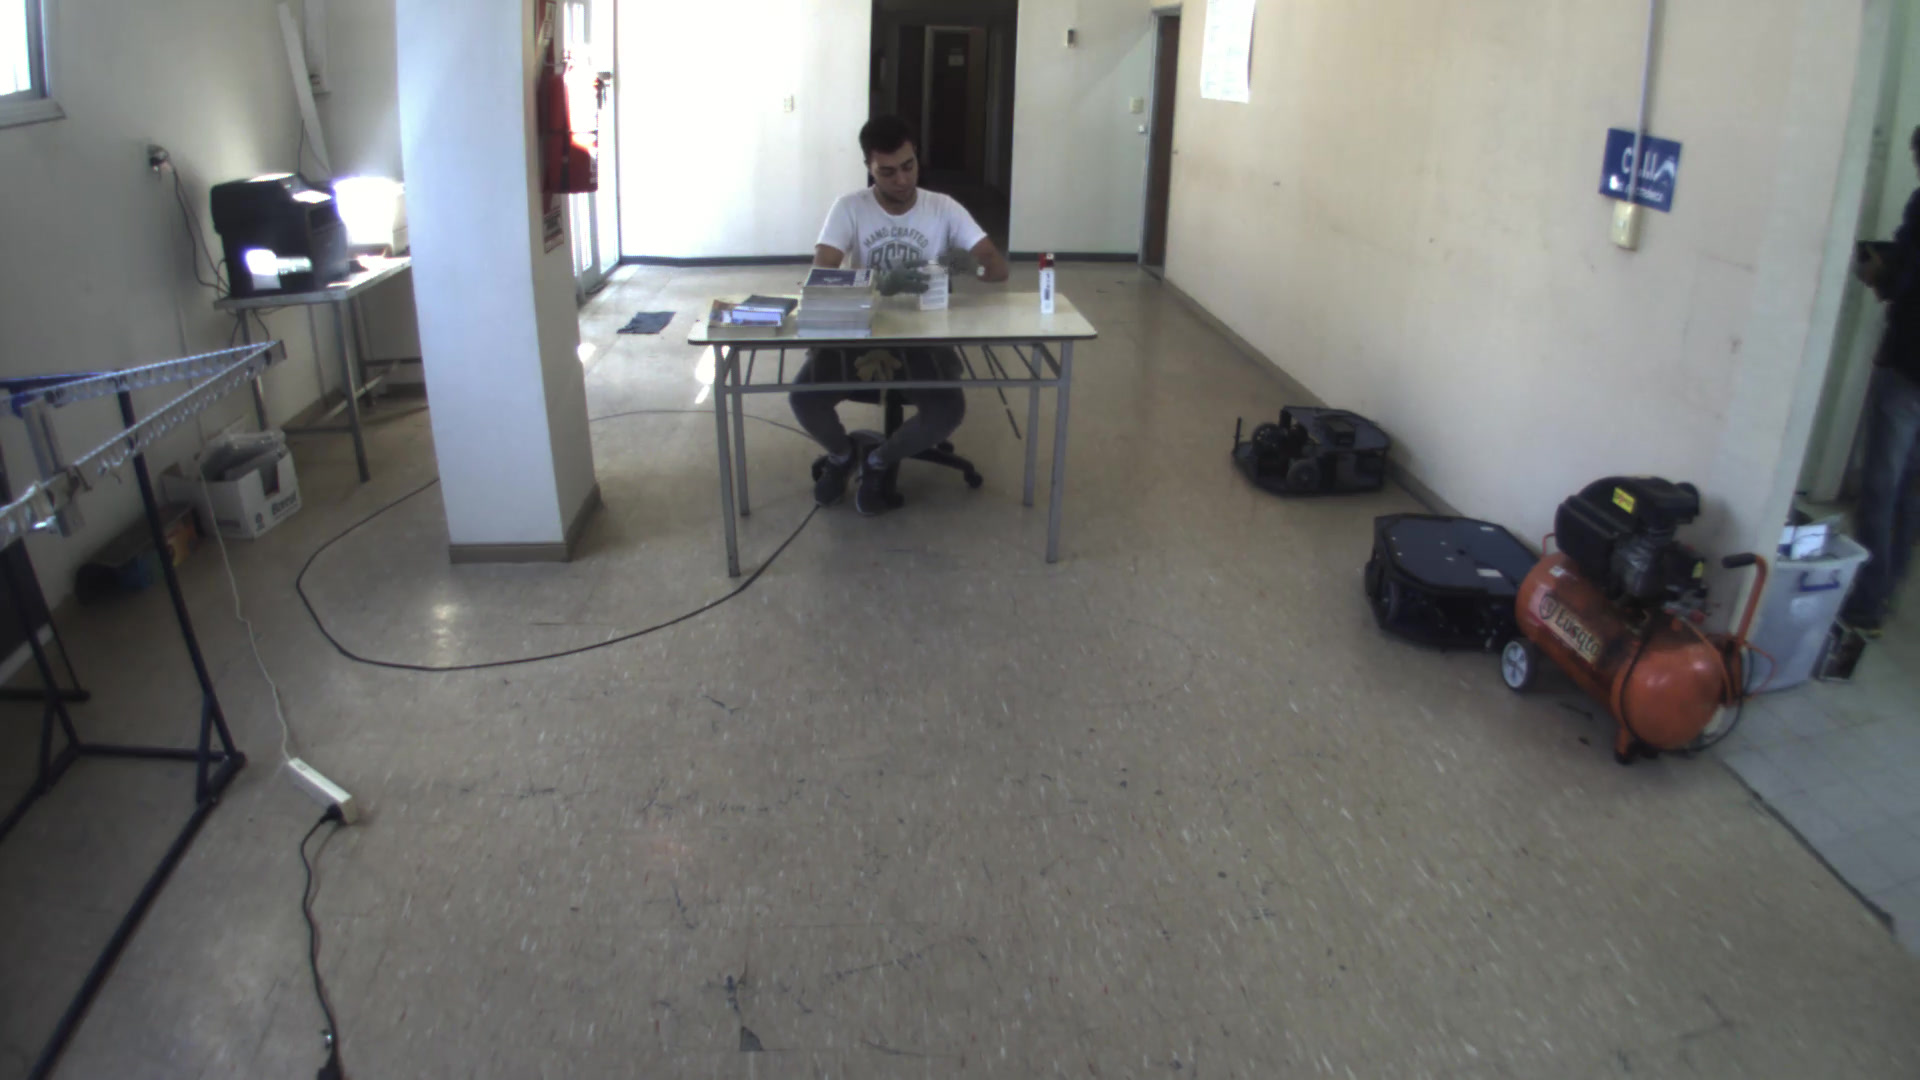hand: (872, 256, 932, 299), (936, 245, 990, 280)
